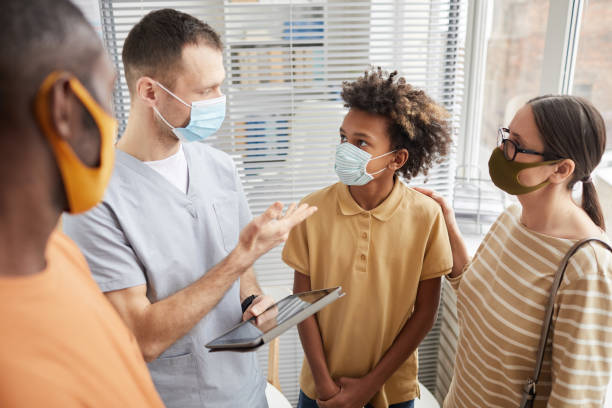with mask: (1, 1, 117, 222), (125, 9, 229, 146), (483, 104, 566, 206), (326, 108, 408, 190)
